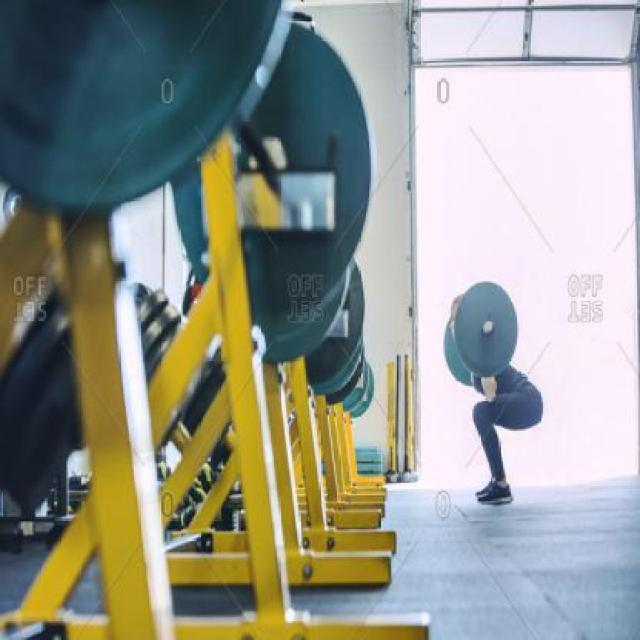barbell: (443, 274, 531, 379)
